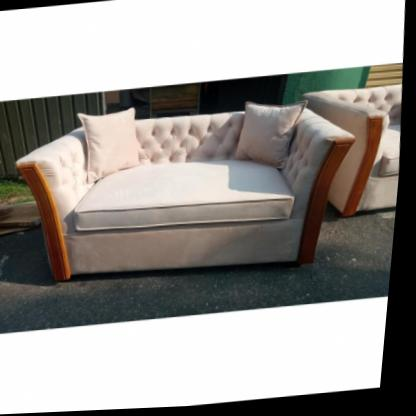Sofa: (5, 90, 366, 297)
